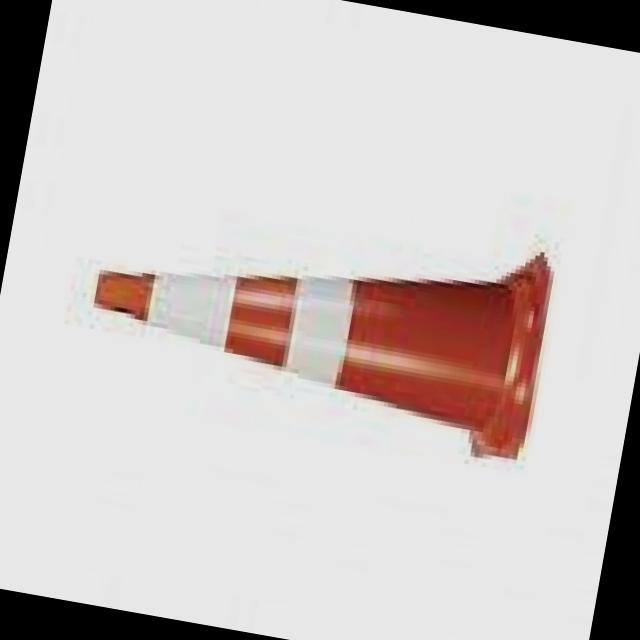cone: (63, 156, 556, 474)
